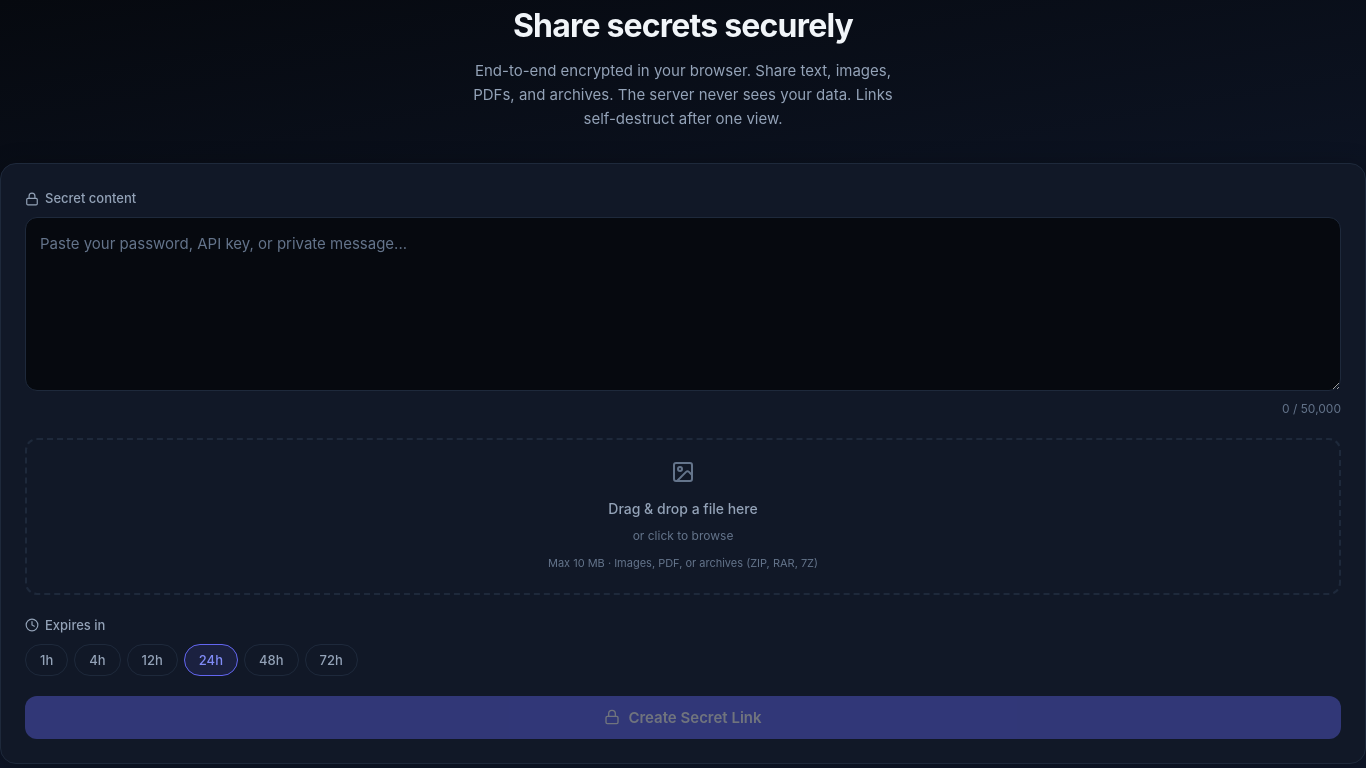
CreateSecret › submits and shows link result
Type "my secret" into the text box with placeholder "Paste your password, API key, or private message..." at (683, 304), box top-left (25, 217), bottom-right (1341, 391)
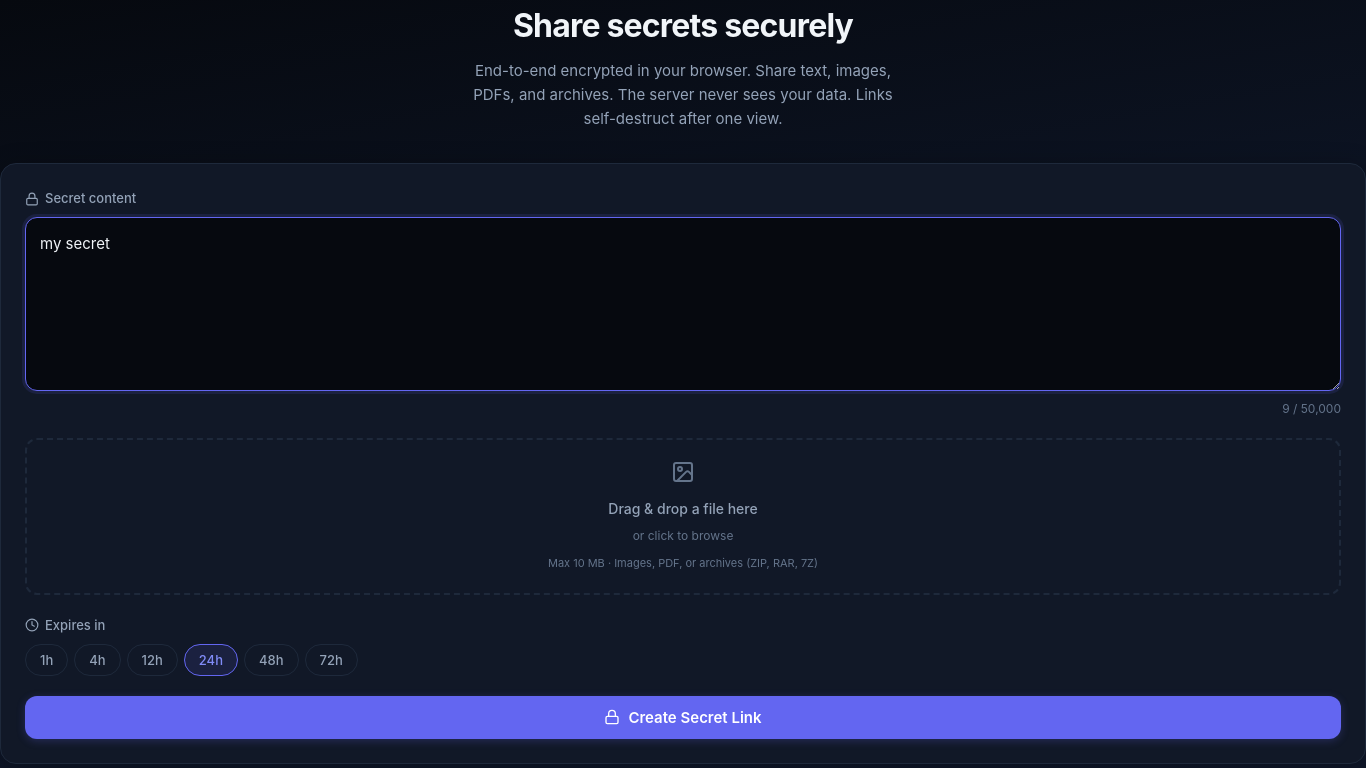
Click the button "Create Secret Link" at (683, 717), box top-left (25, 696), bottom-right (1341, 739)
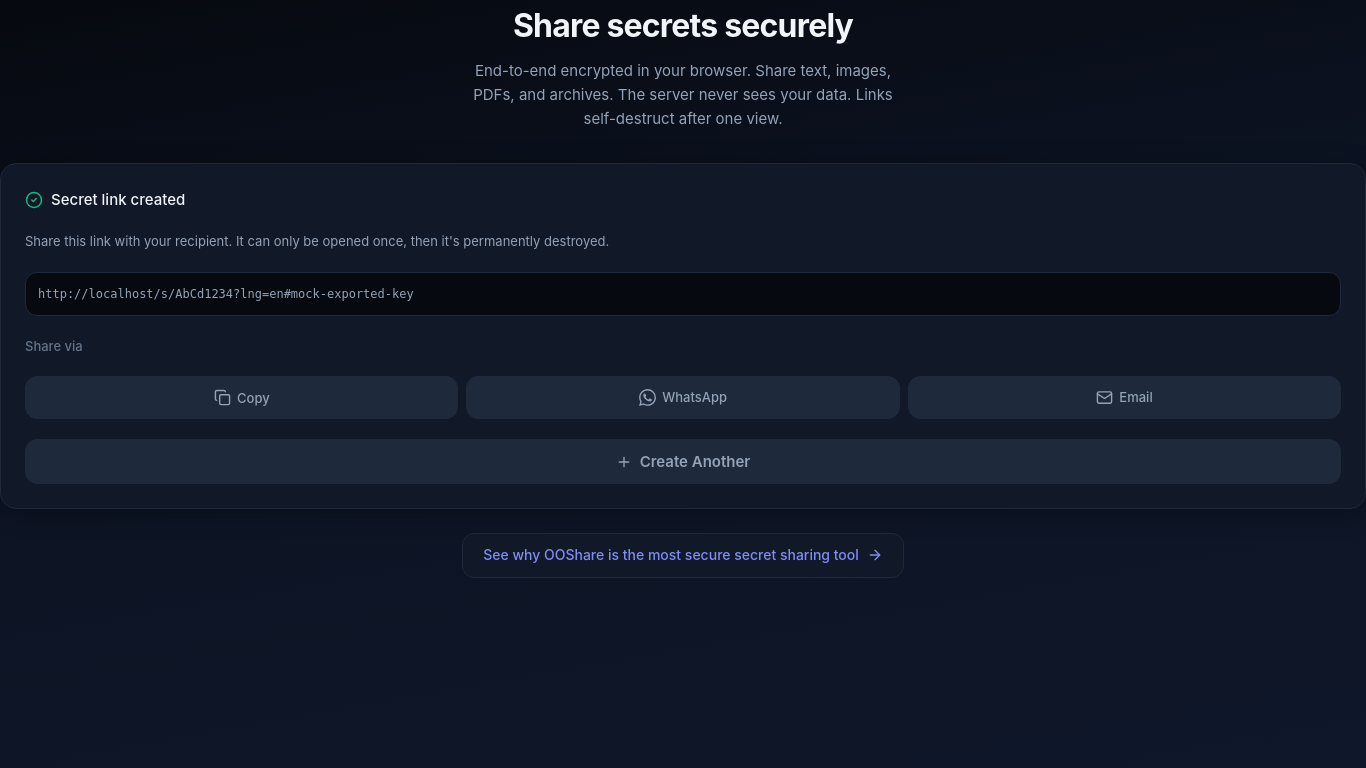
Result: the text "Secret link created" is shown at top-left (51, 188), bottom-right (185, 212)
Result: the text "http://localhost/s/AbCd1234?lng=en#mock-exported-key" is shown at top-left (25, 272), bottom-right (1341, 316)
